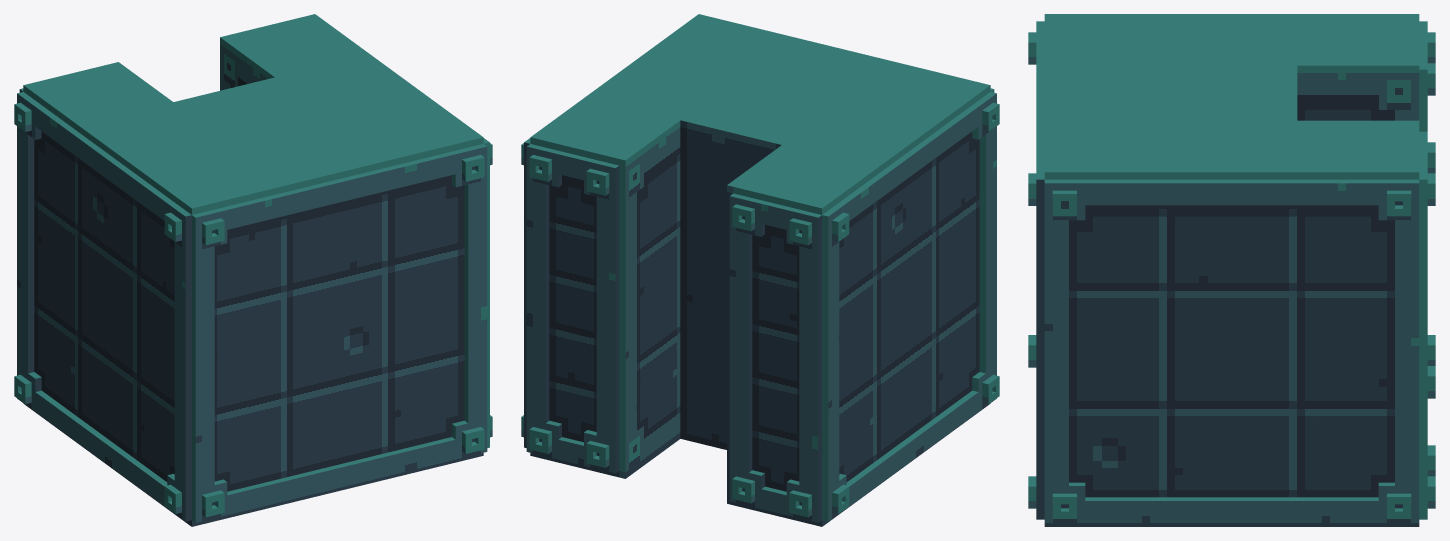
File: lighthouse_spin_aao.fezao.glb
3 renders of one model, left to right at view 1: azimuth 30°, elevation 25°; view 2: azimuth 150°, elevation 25°; view 3: azimuth 270°, elevation 25°, orthographic. The views are drawn at different scales.
Visible parts, largest first — view 1: LIGHTHOUSE_SPIN_AAO; view 2: LIGHTHOUSE_SPIN_AAO; view 3: LIGHTHOUSE_SPIN_AAO.
Part boxes in pixels (box(x1,y1,x2,y2)): LIGHTHOUSE_SPIN_AAO: box(14, 14, 492, 526); LIGHTHOUSE_SPIN_AAO: box(521, 14, 999, 526); LIGHTHOUSE_SPIN_AAO: box(1028, 14, 1435, 526).
Size of the model in its own units: 3.12 by 3 by 3.12.
1 material, 1 textured.
